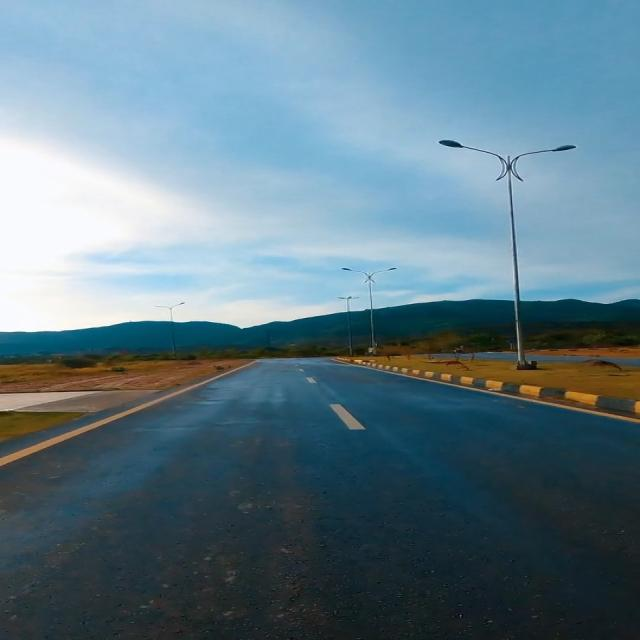asphalt: (0, 359, 639, 639)
cement: (0, 391, 155, 411)
grass: (352, 351, 639, 400), (0, 355, 254, 392)
